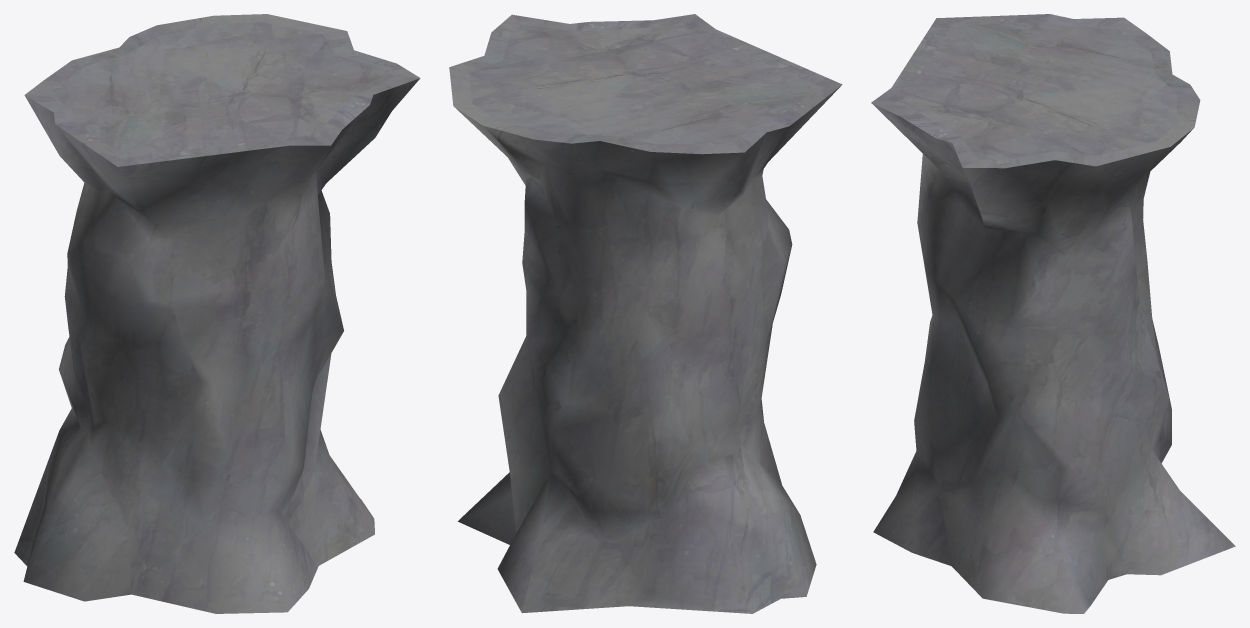
The model's file is Stages_MD_SDLStone08.fbx.
The picture shows the model from 3 angles, left to right: view 1: azimuth 30°, elevation 25°; view 2: azimuth 150°, elevation 25°; view 3: azimuth 270°, elevation 25°; orthographic projection. The views are drawn at different scales.
Visible parts, largest first — view 1: Stages_MD_SDLStone08_Lod1; view 2: Stages_MD_SDLStone08_Lod1; view 3: Stages_MD_SDLStone08_Lod1.
Part boxes in pixels (<box>): Stages_MD_SDLStone08_Lod1: <box>14,14,420,613</box>; Stages_MD_SDLStone08_Lod1: <box>449,14,842,613</box>; Stages_MD_SDLStone08_Lod1: <box>871,14,1235,613</box>.
Size of the model in its own units: 40.84 by 51.84 by 38.01.
Materials: 1 (1 with a texture image).
